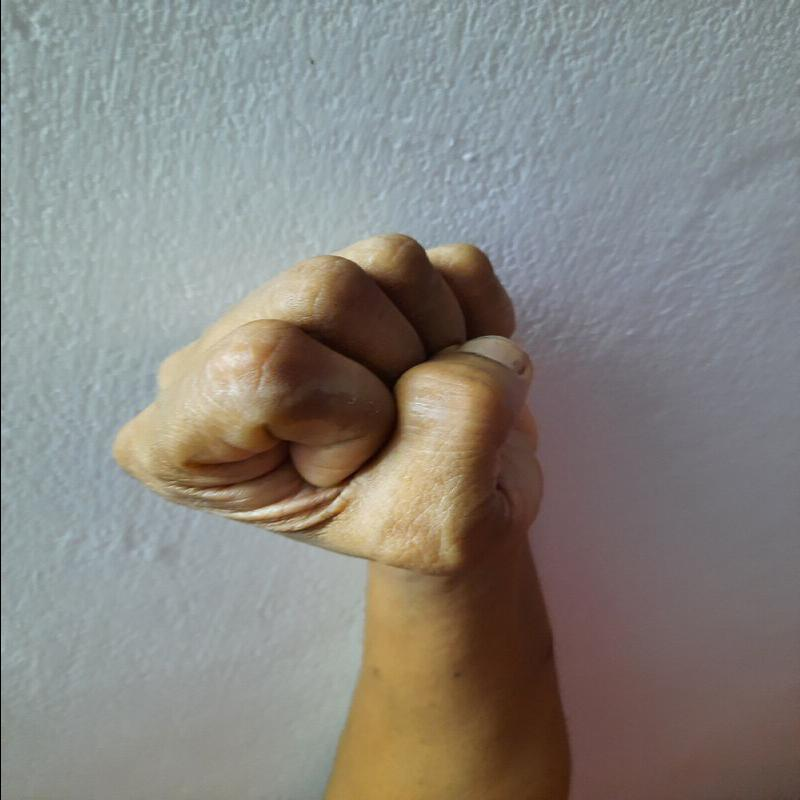Mushti: (79, 204, 590, 637)
